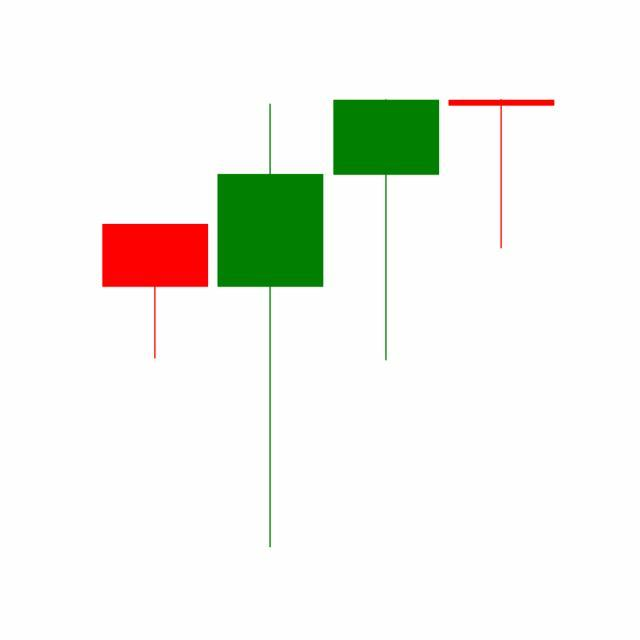Dragonfly Doji: (444, 98, 560, 252)
